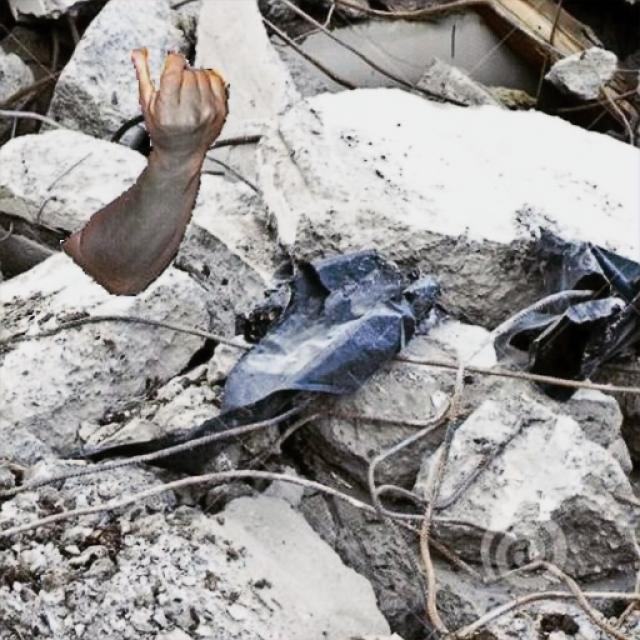Person in Rubble: (60, 46, 229, 295)
